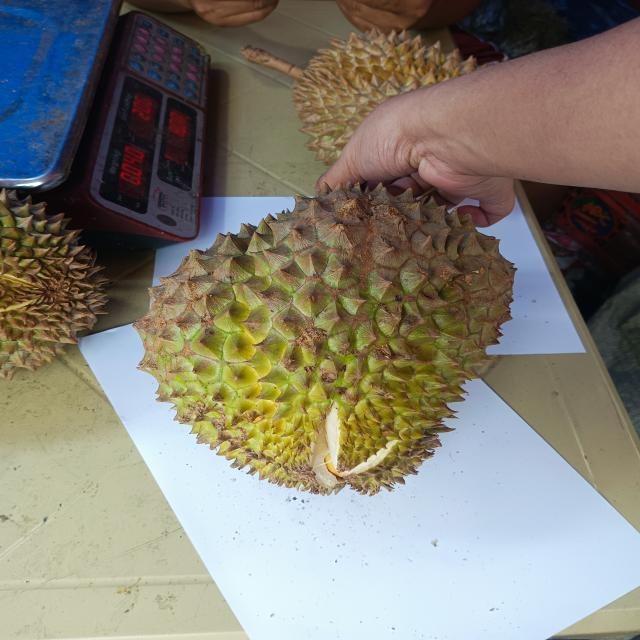defective: (131, 179, 516, 495)
mature: (288, 28, 476, 181)
